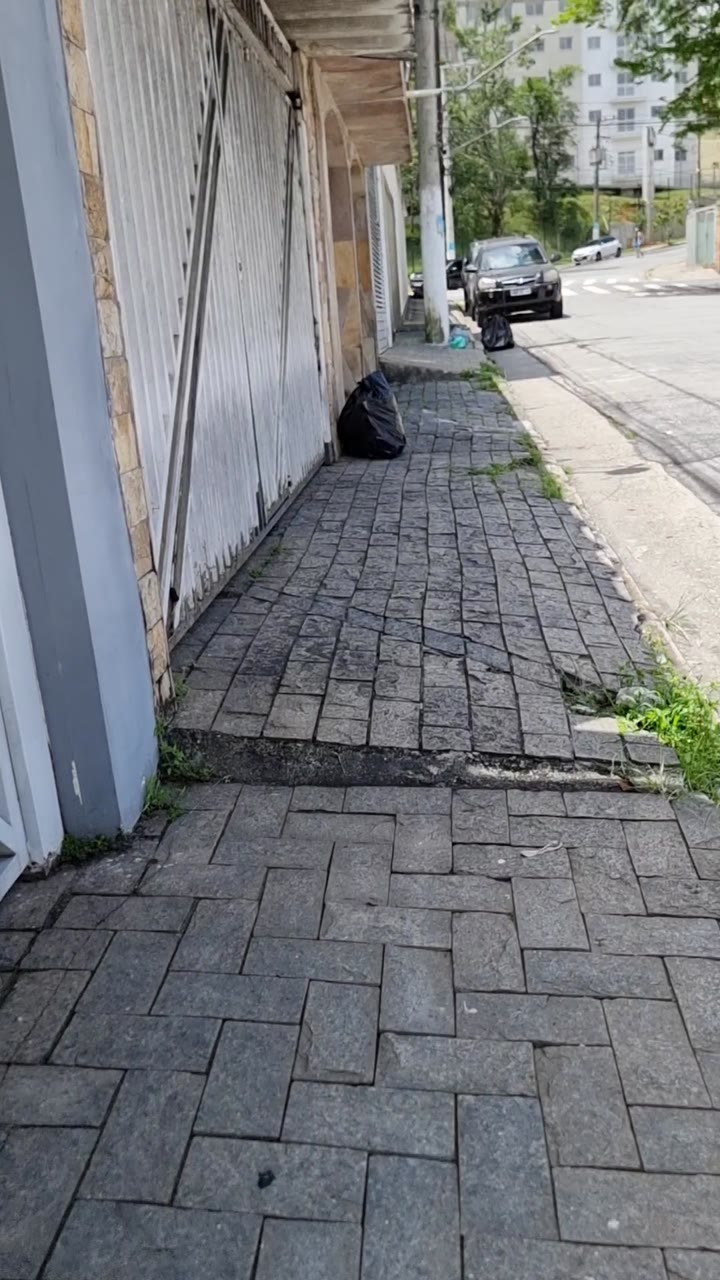desnivel: (180, 691, 662, 768)
obstaculo: (418, 0, 454, 384), (338, 371, 406, 459)
